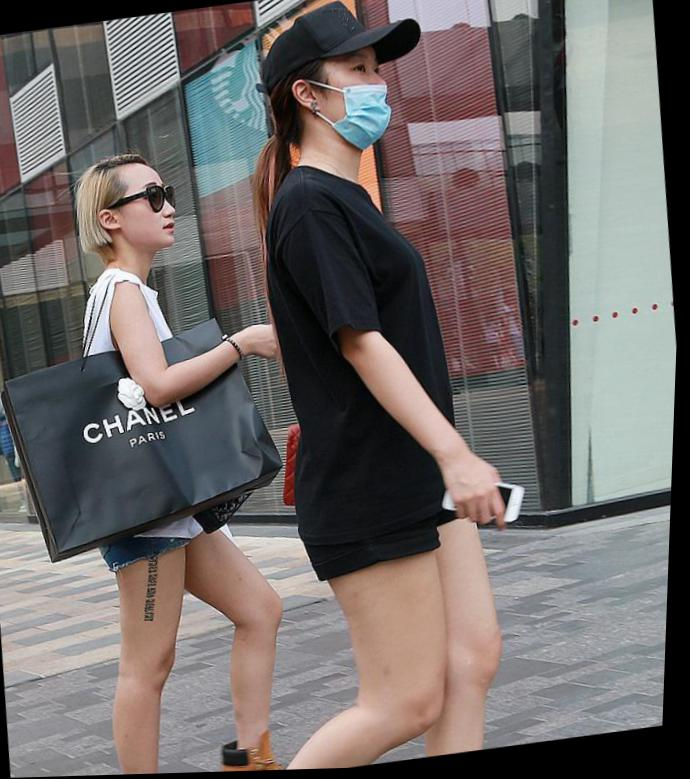NONE: (104, 171, 185, 258)
WRONG: (302, 55, 404, 156)
